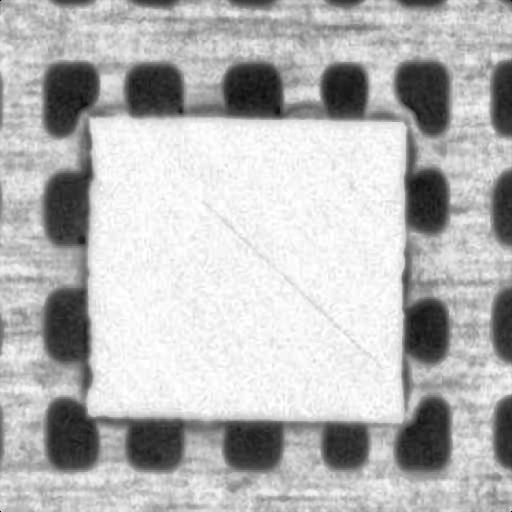DIE_CRACK: (266, 150, 507, 276)
